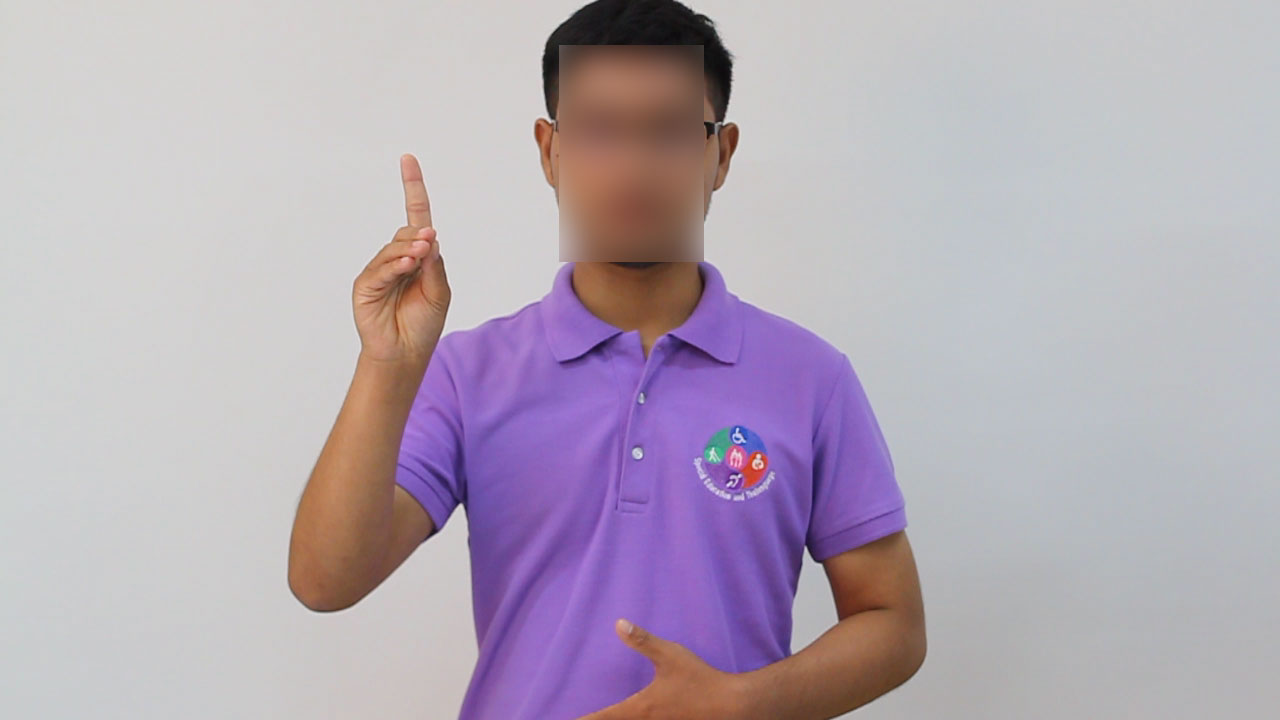dor: (343, 146, 462, 372)
